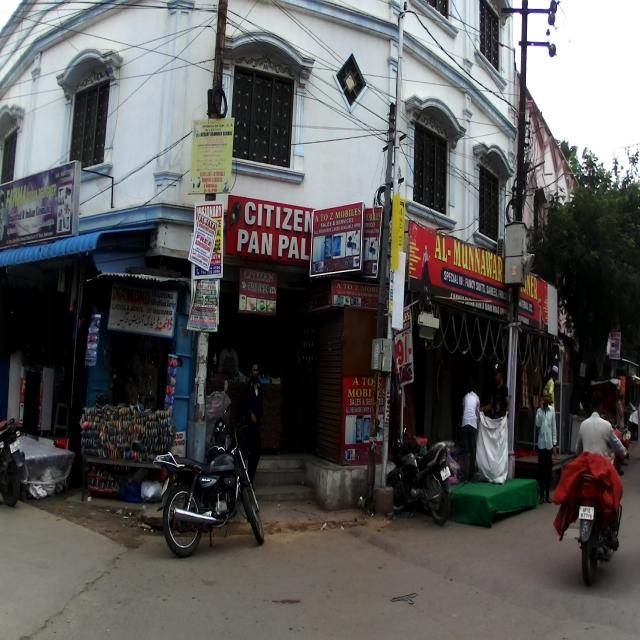motorcycle_Hero: (153, 412, 264, 558), (552, 450, 629, 586), (384, 426, 452, 524), (205, 398, 236, 477)
